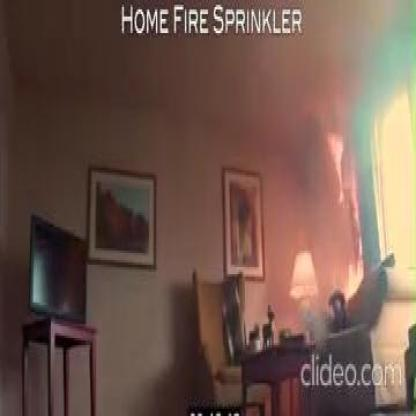fire: (322, 121, 348, 203), (349, 172, 362, 250), (347, 248, 364, 303)
